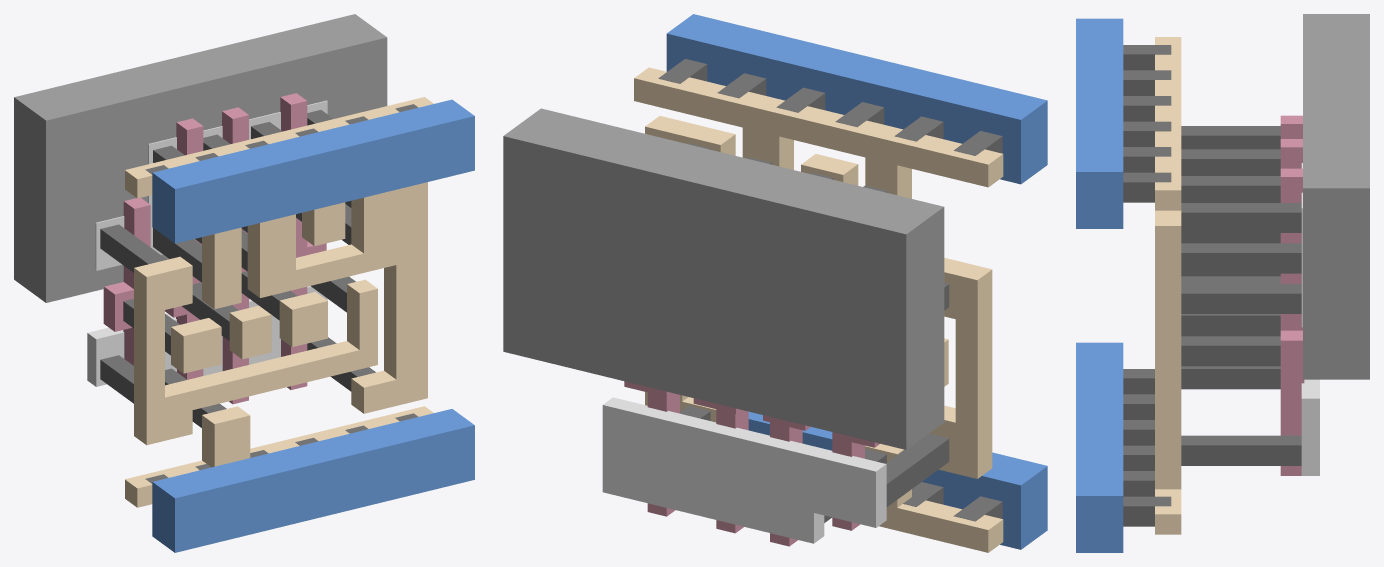
The model's file is sky130_fd_sc_hd__nand3b_1.gds.gltf.
3 views of the same model, side by side, from view 1: azimuth 30°, elevation 25°; view 2: azimuth 150°, elevation 25°; view 3: azimuth 270°, elevation 25° (orthographic). The views are drawn at different scales.
Visible parts, largest first — view 1: sky130_fd_sc_hd__nand3b_1_li1, sky130_fd_sc_hd__nand3b_1_met1, sky130_fd_sc_hd__nand3b_1_nwell, sky130_fd_sc_hd__nand3b_1_licon, sky130_fd_sc_hd__nand3b_1_poly, sky130_fd_sc_hd__nand3b_1_diff, sky130_fd_sc_hd__nand3b_1_mcon; view 2: sky130_fd_sc_hd__nand3b_1_nwell, sky130_fd_sc_hd__nand3b_1_li1, sky130_fd_sc_hd__nand3b_1_met1, sky130_fd_sc_hd__nand3b_1_diff, sky130_fd_sc_hd__nand3b_1_mcon, sky130_fd_sc_hd__nand3b_1_poly, sky130_fd_sc_hd__nand3b_1_licon; view 3: sky130_fd_sc_hd__nand3b_1_licon, sky130_fd_sc_hd__nand3b_1_nwell, sky130_fd_sc_hd__nand3b_1_met1, sky130_fd_sc_hd__nand3b_1_li1, sky130_fd_sc_hd__nand3b_1_mcon, sky130_fd_sc_hd__nand3b_1_poly, sky130_fd_sc_hd__nand3b_1_diff.
Boxes of the visible parts, bbox=[...] form: sky130_fd_sc_hd__nand3b_1_li1: bbox=[125, 97, 433, 507]; sky130_fd_sc_hd__nand3b_1_met1: bbox=[152, 99, 474, 552]; sky130_fd_sc_hd__nand3b_1_nwell: bbox=[14, 14, 387, 302]; sky130_fd_sc_hd__nand3b_1_licon: bbox=[100, 110, 375, 427]; sky130_fd_sc_hd__nand3b_1_poly: bbox=[103, 93, 326, 404]; sky130_fd_sc_hd__nand3b_1_diff: bbox=[87, 100, 327, 386]; sky130_fd_sc_hd__nand3b_1_mcon: bbox=[145, 104, 418, 483]; sky130_fd_sc_hd__nand3b_1_nwell: bbox=[503, 108, 944, 449]; sky130_fd_sc_hd__nand3b_1_li1: bbox=[634, 67, 1003, 552]; sky130_fd_sc_hd__nand3b_1_met1: bbox=[666, 14, 1047, 549]; sky130_fd_sc_hd__nand3b_1_diff: bbox=[602, 397, 886, 543]; sky130_fd_sc_hd__nand3b_1_mcon: bbox=[658, 58, 1002, 521]; sky130_fd_sc_hd__nand3b_1_poly: bbox=[624, 381, 879, 546]; sky130_fd_sc_hd__nand3b_1_licon: bbox=[680, 143, 949, 522]; sky130_fd_sc_hd__nand3b_1_licon: bbox=[1181, 126, 1301, 465]; sky130_fd_sc_hd__nand3b_1_nwell: bbox=[1303, 14, 1369, 379]; sky130_fd_sc_hd__nand3b_1_met1: bbox=[1076, 18, 1123, 552]; sky130_fd_sc_hd__nand3b_1_li1: bbox=[1155, 37, 1181, 534]; sky130_fd_sc_hd__nand3b_1_mcon: bbox=[1123, 45, 1171, 526]; sky130_fd_sc_hd__nand3b_1_poly: bbox=[1280, 115, 1304, 475]; sky130_fd_sc_hd__nand3b_1_diff: bbox=[1301, 163, 1319, 475].
Bounding box in the file's own units: 3.14 × 3.2 × 2.24.
